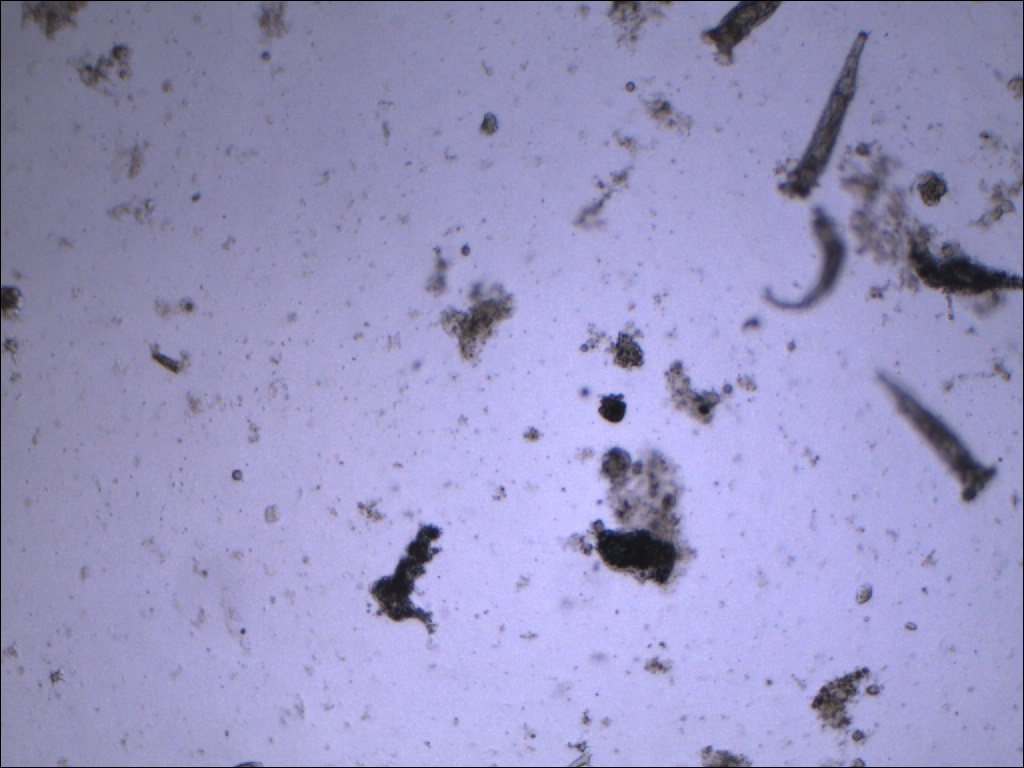amoeba: (363, 518, 448, 638)
